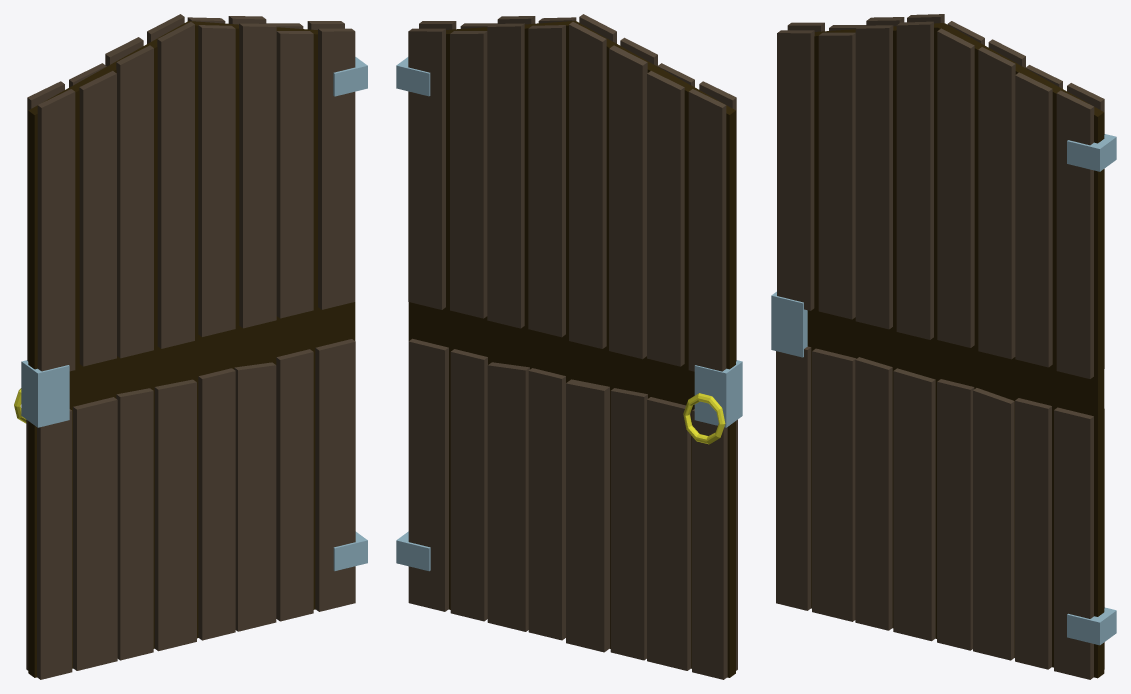
Rendered from door.fbx.
The picture shows the model from 3 angles, left to right: view 1: azimuth 30°, elevation 25°; view 2: azimuth 150°, elevation 25°; view 3: azimuth 330°, elevation 25°; orthographic projection.
Visible parts, largest first — view 1: Door; view 2: Door; view 3: Door.
Part boxes in pixels (bbox=[...]): Door: bbox=[14, 14, 367, 679]; Door: bbox=[396, 14, 742, 679]; Door: bbox=[771, 14, 1116, 679].
Size of the model in its own units: 4.19 by 7.43 by 0.5231.
